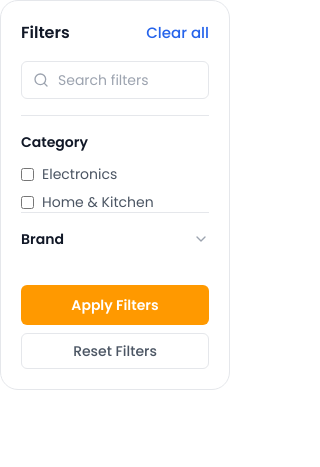
Test case: ProductFilterSidebar › renders the Brand group collapsed behind an accordion toggle
Expected: the checkbox labelled "Sony" is not shown
Click the button "Brand" at (115, 239), box [21, 229, 209, 249]
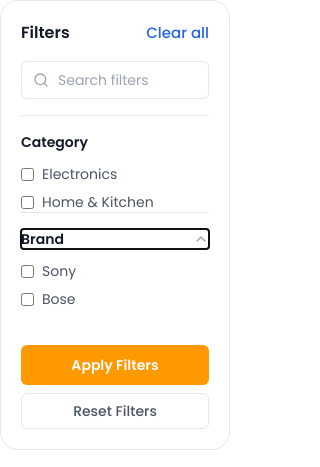
Expected: the checkbox labelled "Sony" is shown, [21, 264, 34, 278]
Expected: the checkbox labelled "Bose" is shown, [21, 292, 34, 306]
